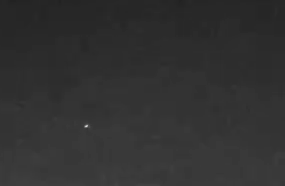Target: (85, 125, 88, 127)
